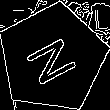N_NE: (21, 29, 84, 88)
